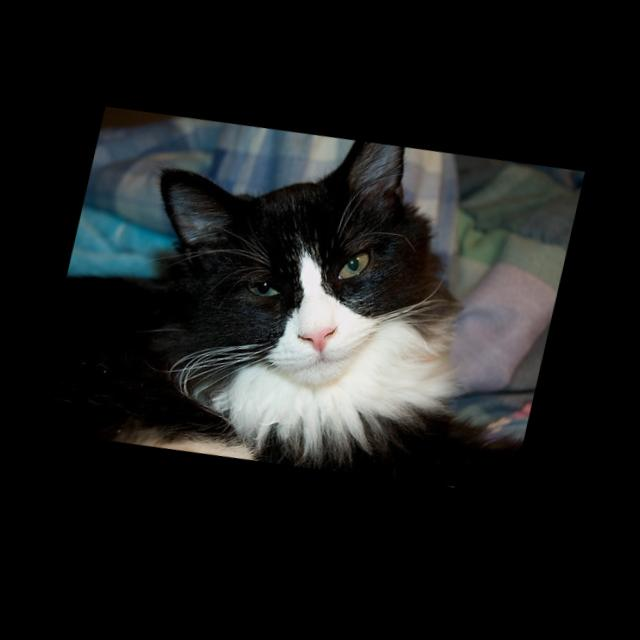animals: (131, 108, 422, 372)
